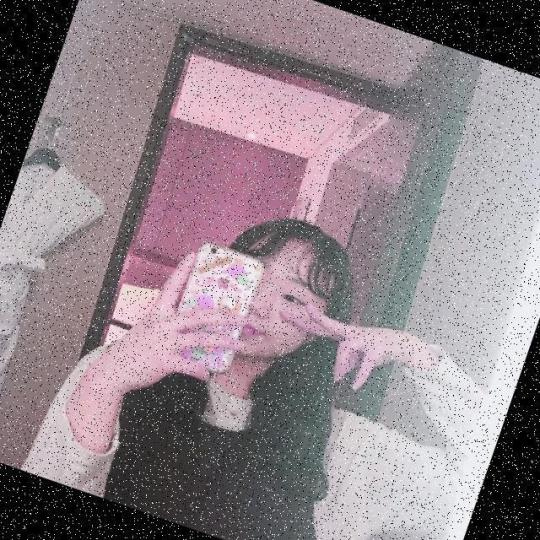phone: (175, 245, 262, 380)
